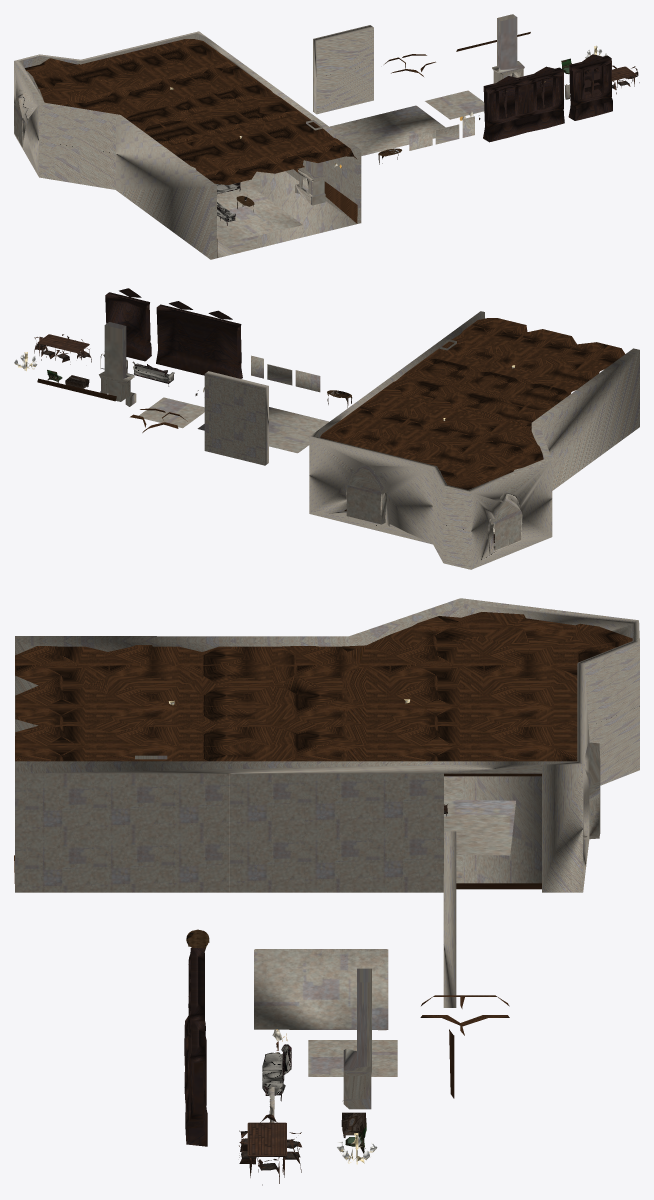
The model's file is living_room.glb.
The picture shows the model from 3 angles, top to bottom: view 1: azimuth 30°, elevation 25°; view 2: azimuth 150°, elevation 25°; view 3: azimuth 270°, elevation 25°; orthographic projection. The views are drawn at different scales.
Parts seen in each view (by area): view 1: body; view 2: body; view 3: body.
Part boxes in pixels (x1,y1,x2,y2): body: [14, 14, 639, 259]; body: [14, 288, 639, 569]; body: [14, 598, 639, 1185].
Bounding box in the file's own units: 14 × 1.79 × 7.96.
Materials: 12 (12 with a texture image).
